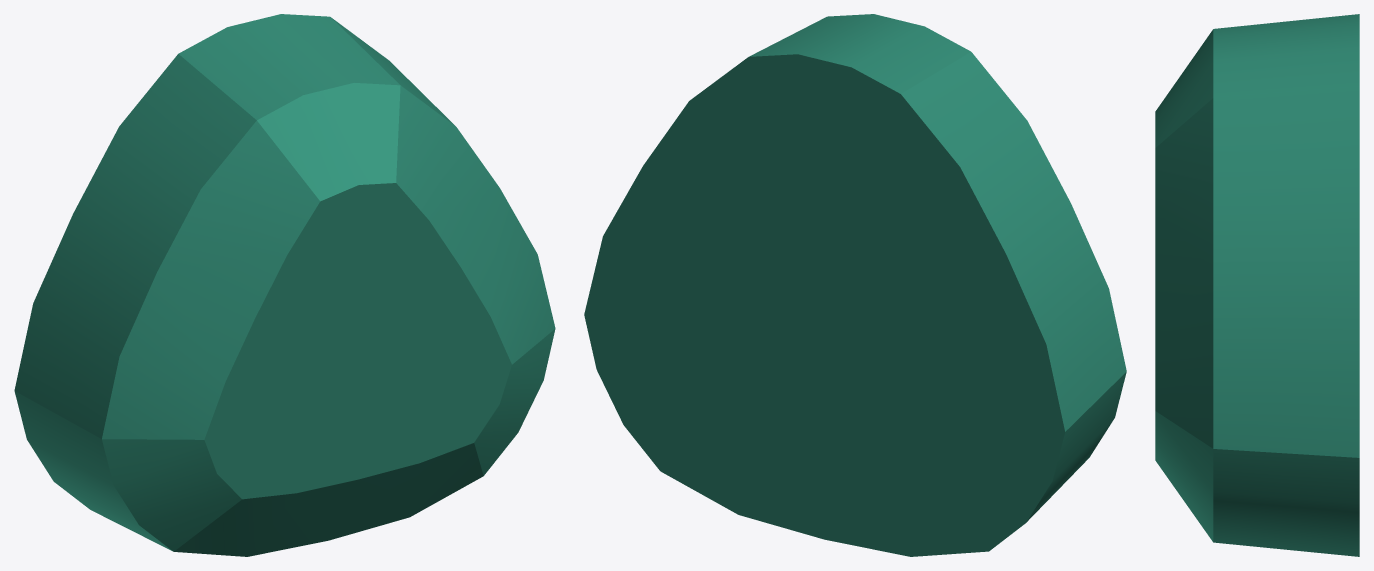
Rendered from food_jelly_01.fbx.
3 renders of one model, left to right at view 1: azimuth 30°, elevation 25°; view 2: azimuth 150°, elevation 25°; view 3: azimuth 270°, elevation 25°, orthographic.
Parts seen in each view (by area): view 1: food_jelly_01; view 2: food_jelly_01; view 3: food_jelly_01.
Part boxes in pixels (x1,y1,x2,y2): food_jelly_01: [14, 14, 555, 556]; food_jelly_01: [584, 14, 1126, 556]; food_jelly_01: [1155, 14, 1359, 556].
Size of the model in its own units: 55.51 by 52.8 by 20.84.
